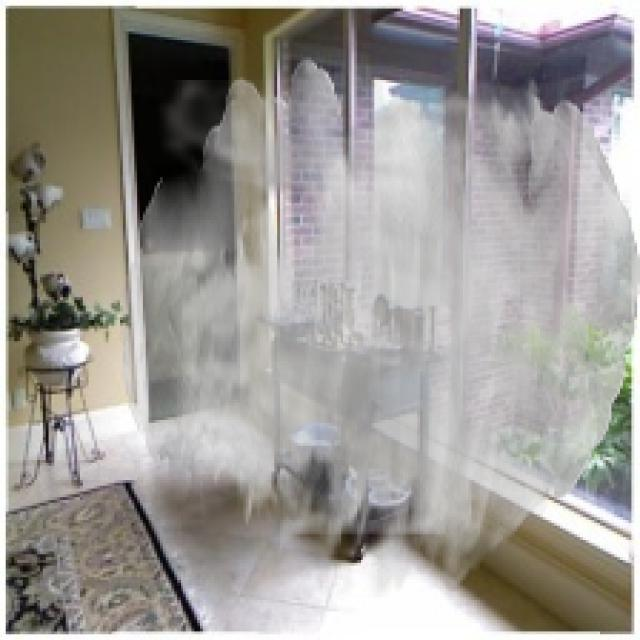Smoke: (120, 57, 637, 600)
